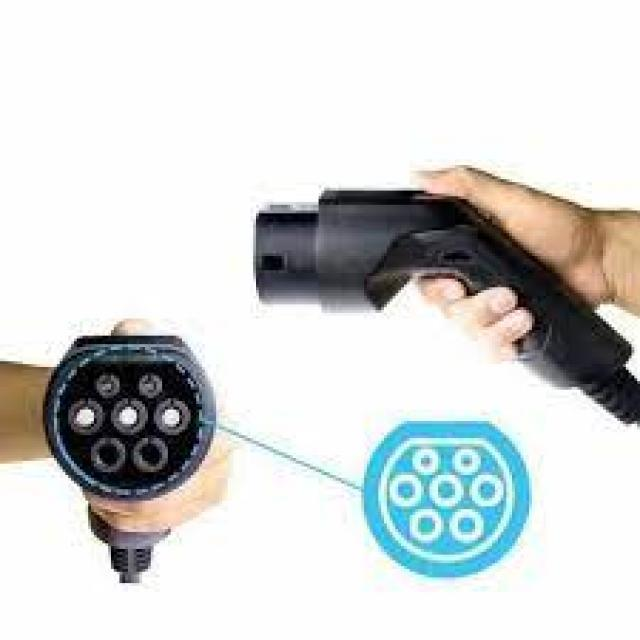Type 2: (43, 333, 226, 503)
